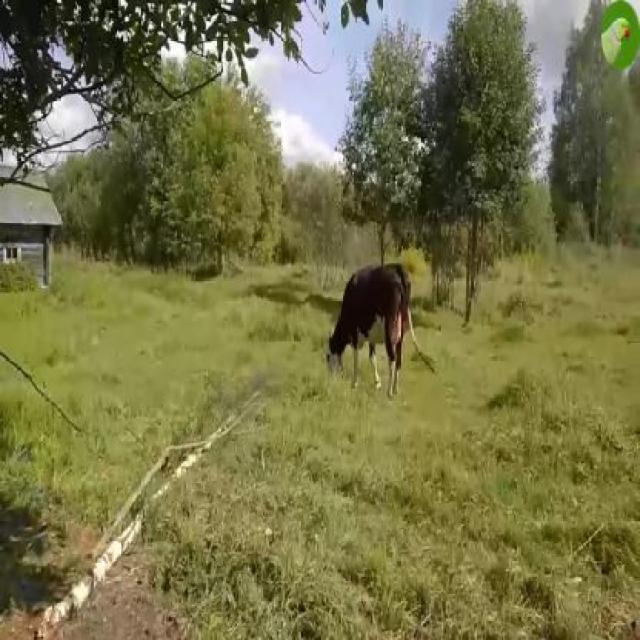Cow: (328, 263, 414, 403)
